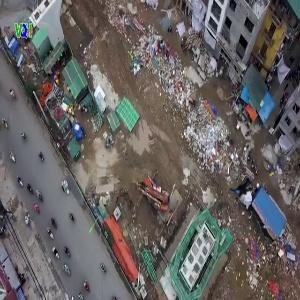drone: (217, 164, 262, 209)
